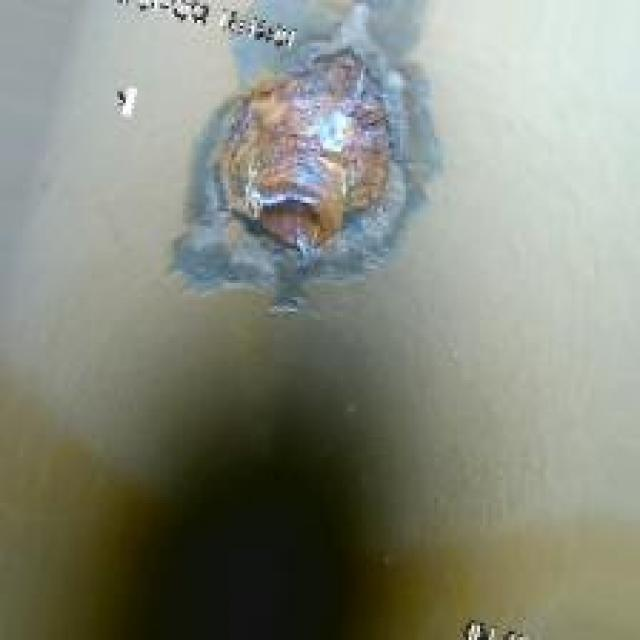ferrule: (203, 54, 391, 260)
